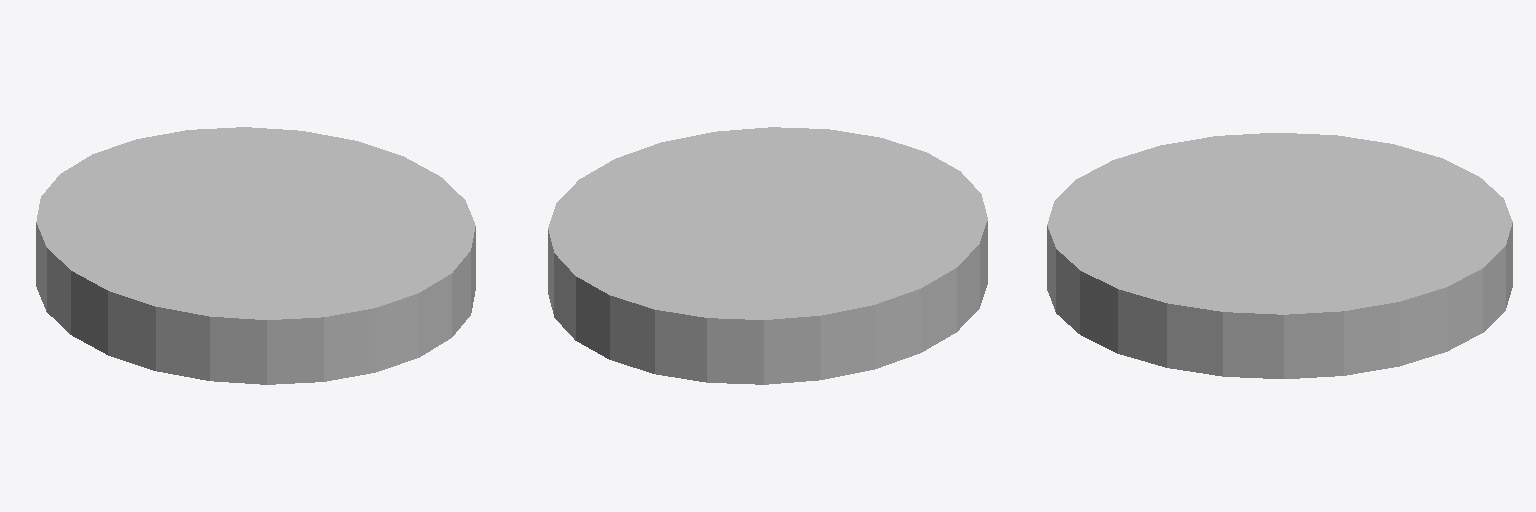
Rendered from original-46.obj.
The picture shows the model from 3 angles: view 1: azimuth 30°, elevation 25°; view 2: azimuth 150°, elevation 25°; view 3: azimuth 270°, elevation 25°; orthographic projection.
Visible parts, largest first — view 1: Group21/mesh16/mesh16-geometry#mesh16-geometry; view 2: Group21/mesh16/mesh16-geometry#mesh16-geometry; view 3: Group21/mesh16/mesh16-geometry#mesh16-geometry.
Boxes of the visible parts, <box> form: Group21/mesh16/mesh16-geometry#mesh16-geometry: <box>36,127,475,384</box>; Group21/mesh16/mesh16-geometry#mesh16-geometry: <box>548,127,987,384</box>; Group21/mesh16/mesh16-geometry#mesh16-geometry: <box>1047,133,1512,378</box>.
Size of the model in its own units: 0.052 by 0.0086 by 0.0561.